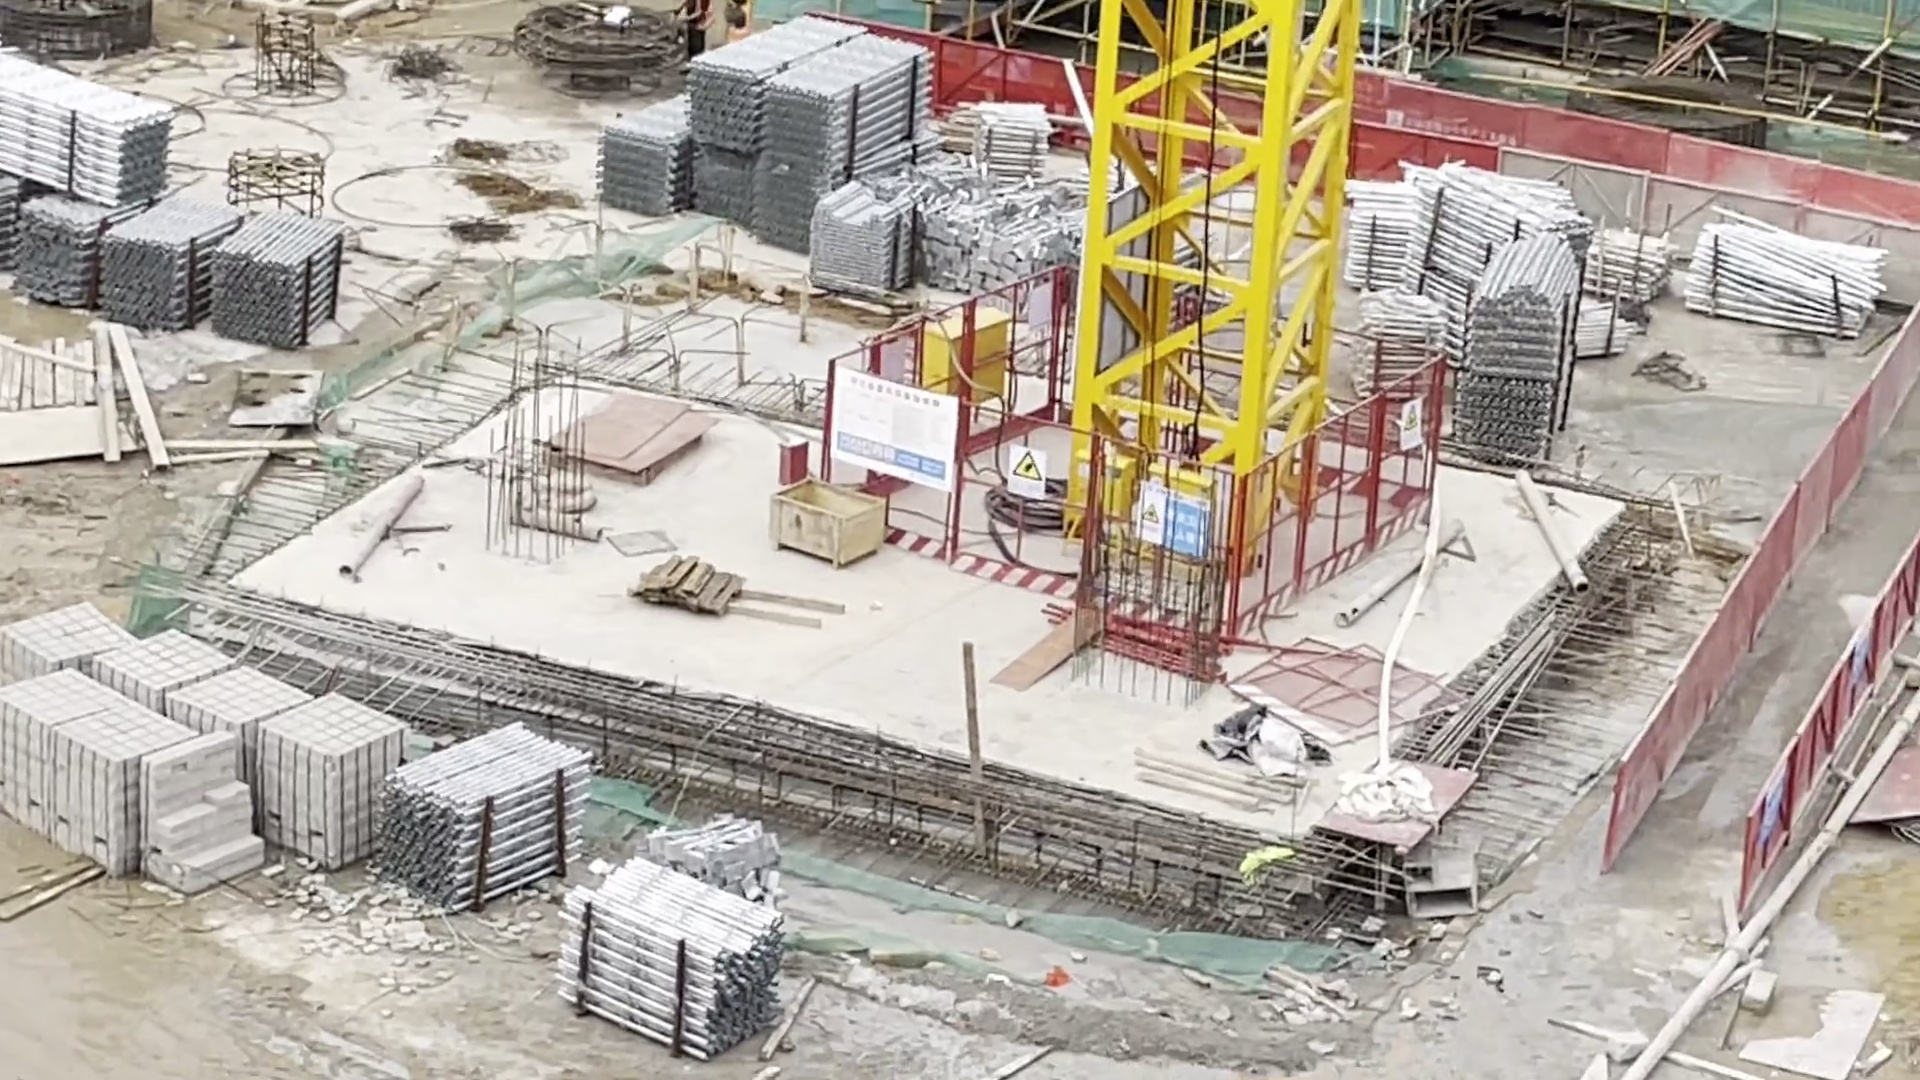brick: (3, 591, 407, 913)
ebox: (1064, 418, 1232, 558), (876, 295, 1025, 404)
fence: (815, 363, 1229, 650), (868, 26, 1526, 199), (1065, 266, 1451, 487), (1600, 603, 1817, 920), (1195, 369, 1448, 636), (795, 273, 1083, 473), (1724, 414, 1873, 753), (1855, 334, 1920, 644)
hopper: (760, 468, 895, 574)
scaffold: (1340, 154, 1898, 465), (589, 18, 1081, 309), (1, 47, 363, 372), (550, 855, 787, 1062), (377, 719, 588, 922)
slogan: (814, 365, 967, 500), (1122, 476, 1222, 576), (1377, 392, 1437, 465), (996, 442, 1048, 504)
vest: (676, 1, 711, 36), (727, 5, 757, 38)
